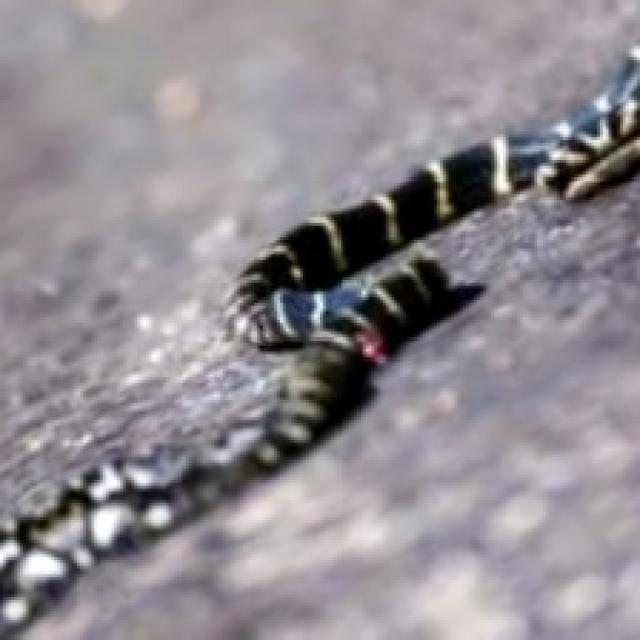king cobra: (0, 0, 637, 514), (31, 177, 637, 637)
